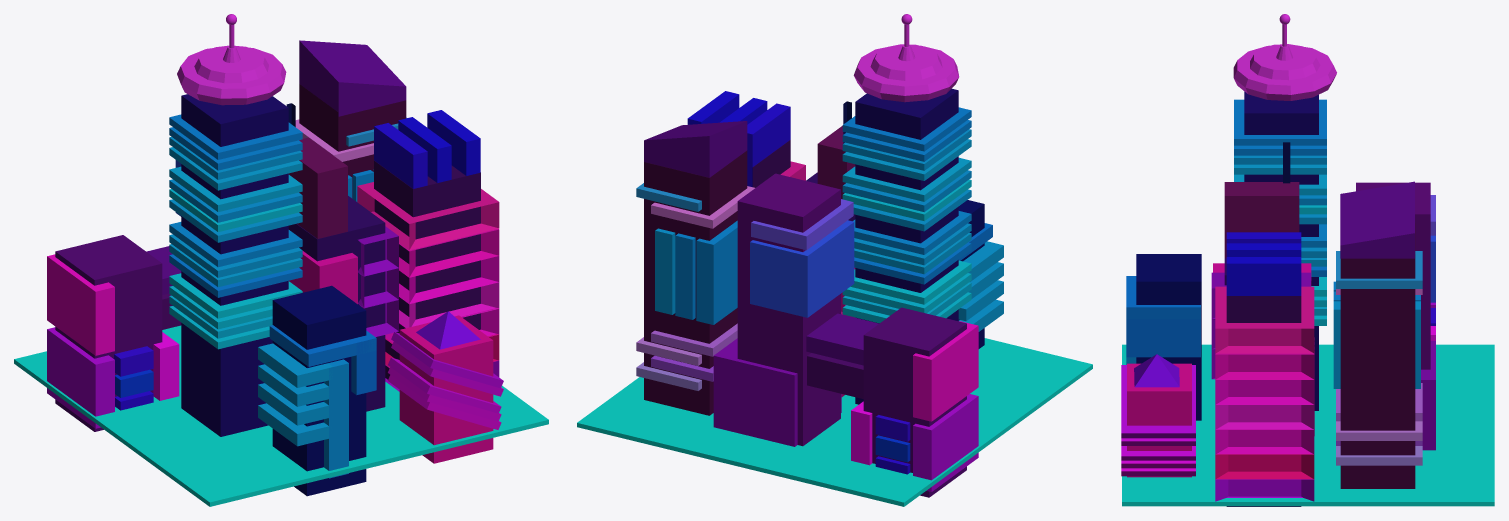
Rendered from back_city_sample_group.fbx.
3 renders of one model, left to right at view 1: azimuth 30°, elevation 25°; view 2: azimuth 150°, elevation 25°; view 3: azimuth 270°, elevation 25°, orthographic. The views are drawn at different scales.
Visible parts, largest first — view 1: Cylinder, Cube.032, Cube.059, Cube, Cube.040, Cube.002, Cone, Cube.004; view 2: Cube.059, Cylinder, Cube.004, Cube, Cube.032, Cube.040, Cube.002; view 3: Cube.032, Cube.004, Cube, Cylinder, Cone, Cube.040, Cube.002, Cube.059.
Part boxes in pixels (x1,y1,x2,y2): Cylinder: (169,14,302,436); Cube.032: (357,110,499,391); Cube.059: (47,160,181,431); Cube: (14,325,548,506); Cube.040: (258,285,376,496); Cube.002: (286,103,398,411); Cone: (388,311,503,463); Cube.004: (295,40,406,201); Cube.059: (713,173,978,497); Cylinder: (842,14,971,404); Cube.004: (636,121,754,415); Cube: (577,338,1092,506); Cube.032: (687,91,805,187); Cube.040: (958,200,1003,348); Cube.002: (806,101,855,396); Cube.032: (1215,232,1314,506); Cube.004: (1333,181,1422,488); Cube: (1122,344,1494,506); Cylinder: (1233,14,1336,410); Cone: (1121,354,1195,477); Cube.040: (1126,254,1201,420); Cube.002: (1211,142,1314,435); Cube.059: (1356,182,1435,450).
Size of the model in its own units: 998 by 1193 by 1000.
